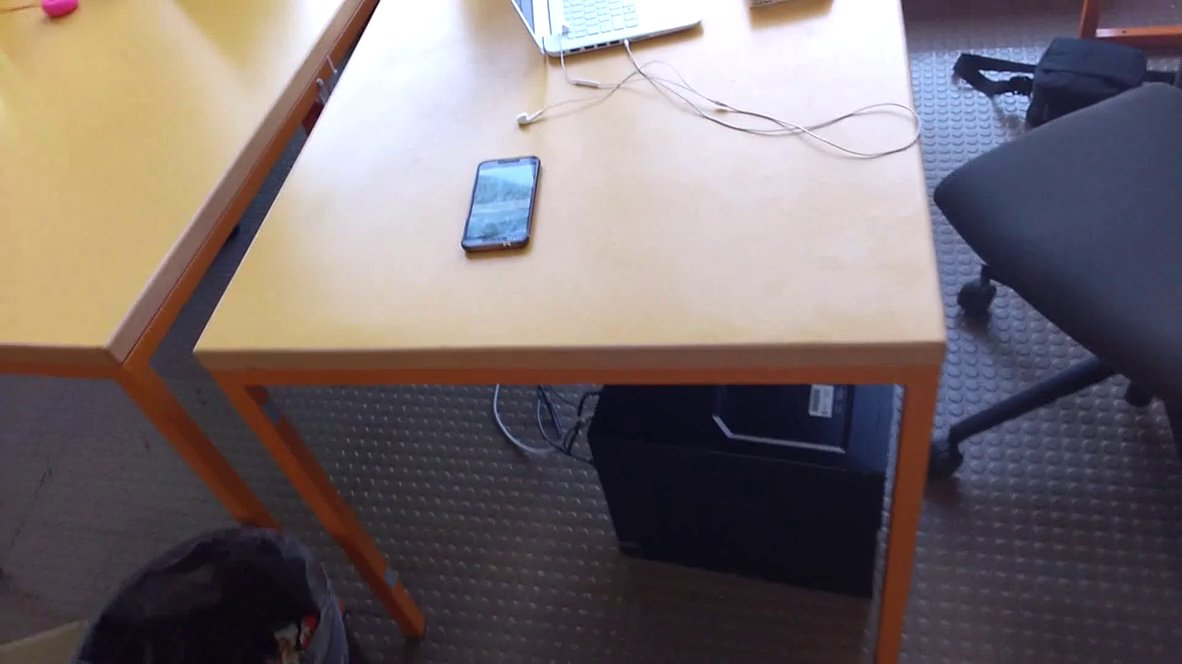phone: (458, 149, 552, 263)
